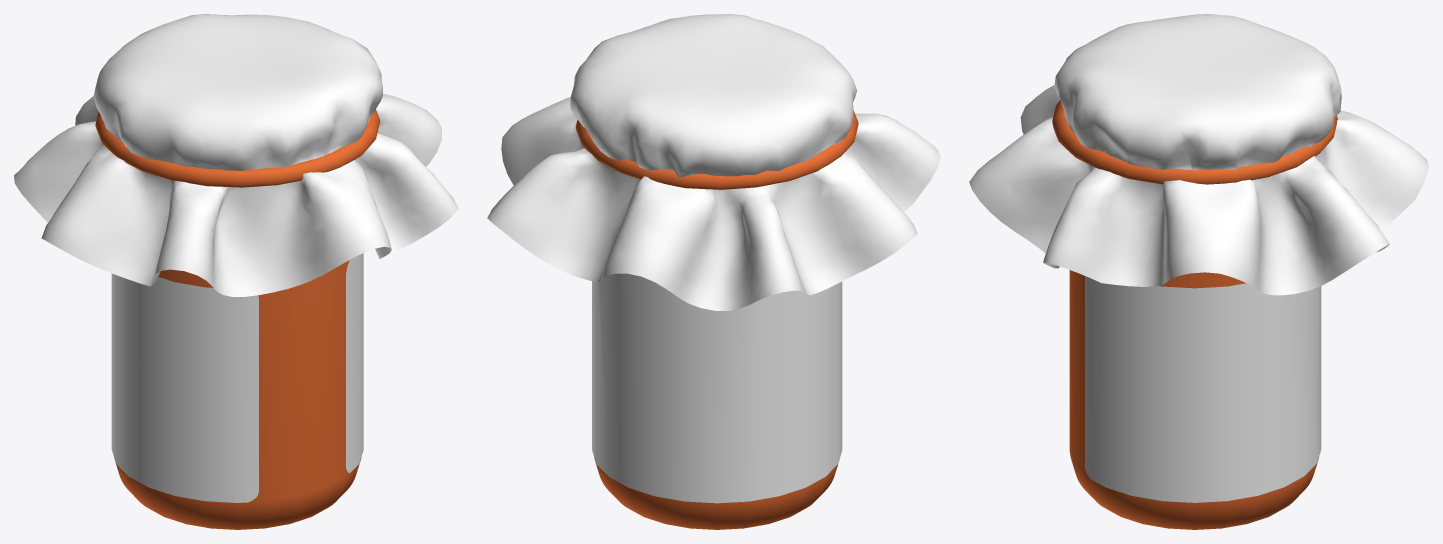
The model's file is PeachJam.fbx.
The picture shows the model from 3 angles, left to right: view 1: azimuth 30°, elevation 25°; view 2: azimuth 150°, elevation 25°; view 3: azimuth 270°, elevation 25°; orthographic projection.
Parts seen in each view (by area): view 1: 3d-model; view 2: 3d-model; view 3: 3d-model.
Boxes of the visible parts, x1,y1,x2,y2 form: 3d-model: (14,14,458,529); 3d-model: (487,14,940,529); 3d-model: (969,14,1428,529).
Bounding box in the file's own units: 563 × 577 × 559.
